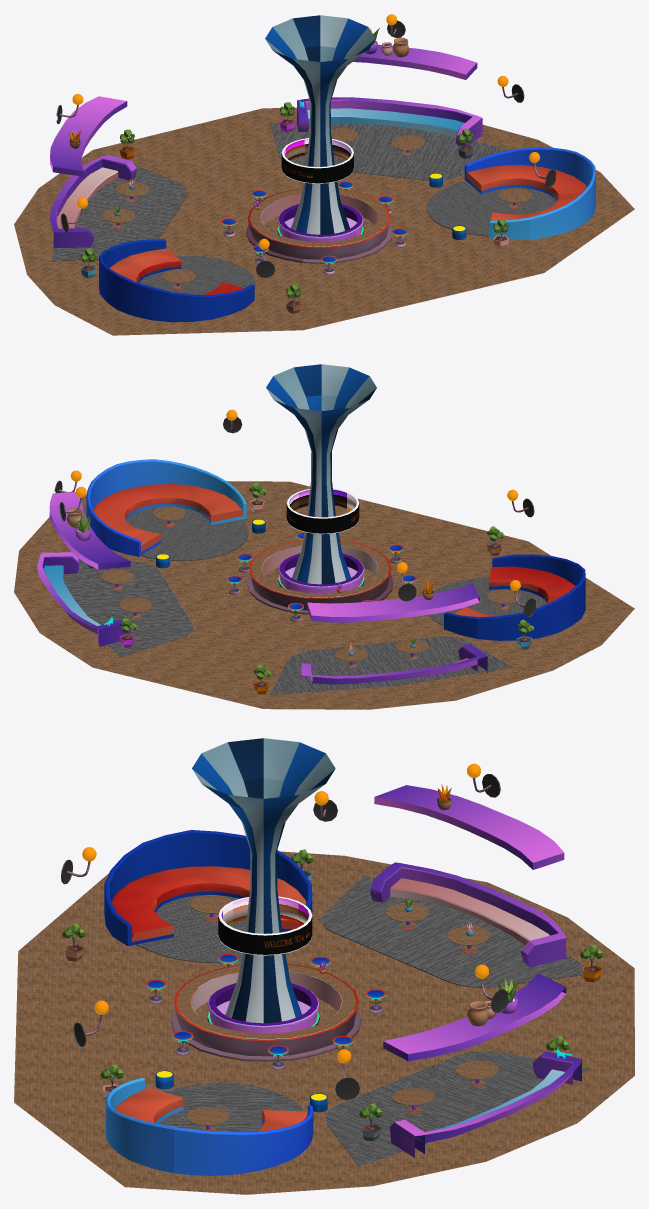
File: Spawn_Int.glb
3 renders of one model, top to bottom at view 1: azimuth 30°, elevation 25°; view 2: azimuth 150°, elevation 25°; view 3: azimuth 270°, elevation 25°, orthographic. The views are drawn at different scales.
Visible parts, largest first — view 1: Spawn_Int.001; view 2: Spawn_Int.001; view 3: Spawn_Int.001.
Part boxes in pixels (x1,y1,x2,y2): Spawn_Int.001: (14,14,634,335); Spawn_Int.001: (14,364,634,709); Spawn_Int.001: (14,738,634,1194).
Size of the model in its own units: 28.99 by 9.98 by 22.01.
5 materials, 5 textured.
